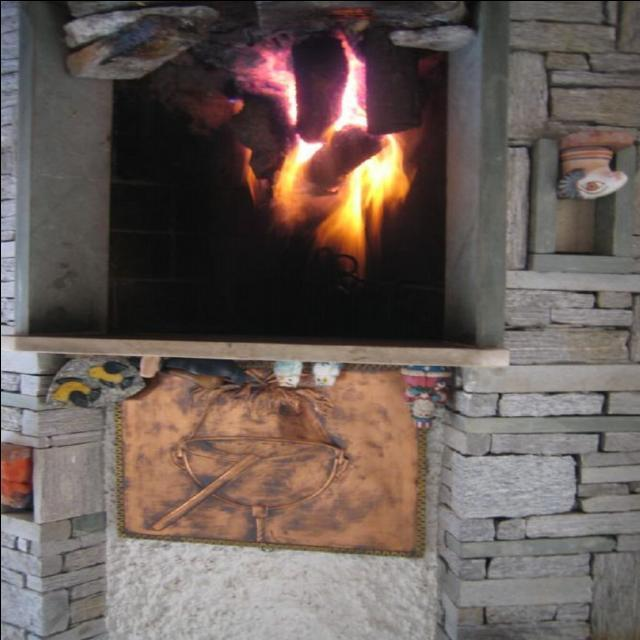Fire: (230, 44, 418, 250)
